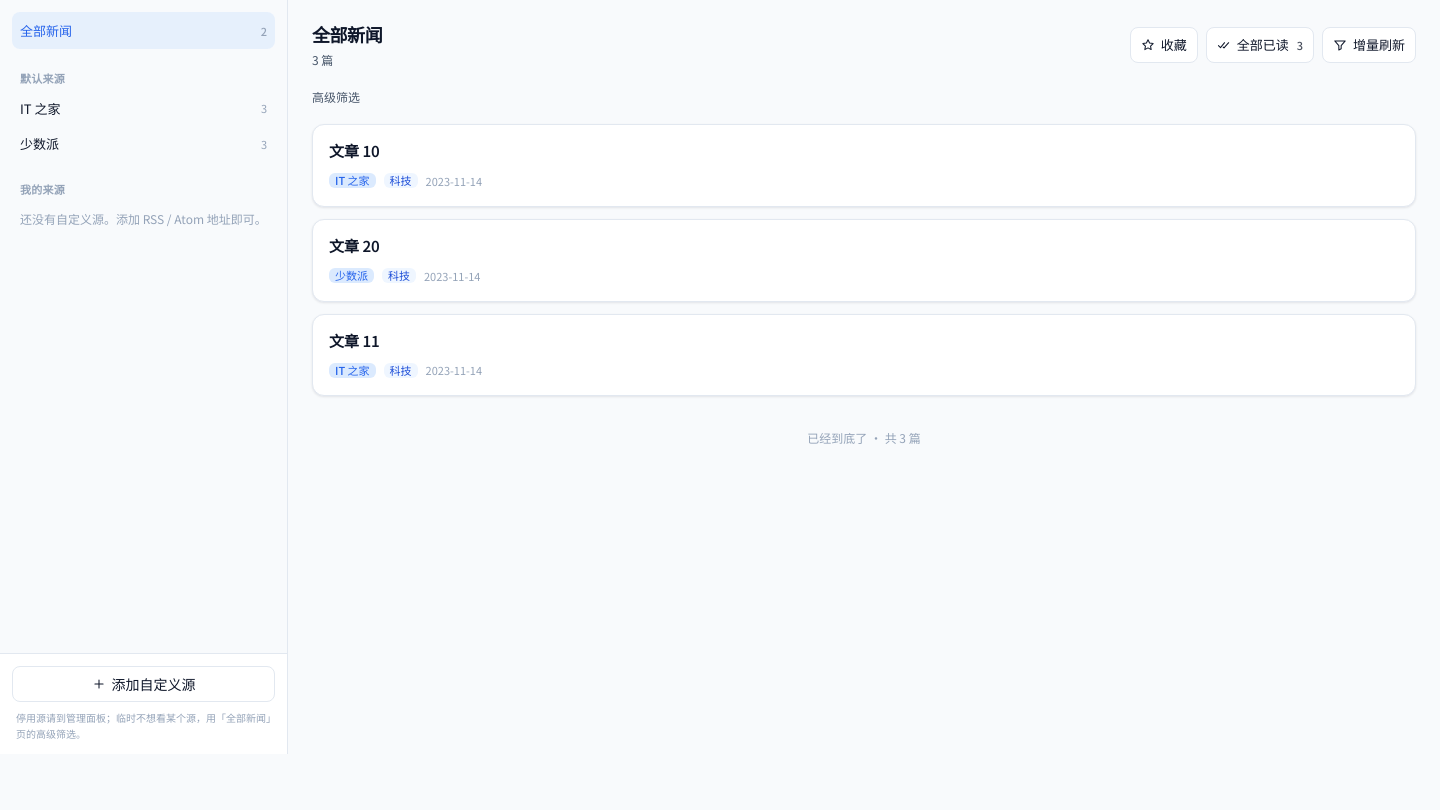
Test: 勾选隐藏源的效果 › 勾选一个源 → 该源文章从列表消失，并出现「已隐藏 1 个源」提示
expect the text "3 篇" is shown: met, box [312, 51, 333, 68]
Click the button "高级筛选" at (336, 97), box [312, 87, 360, 107]
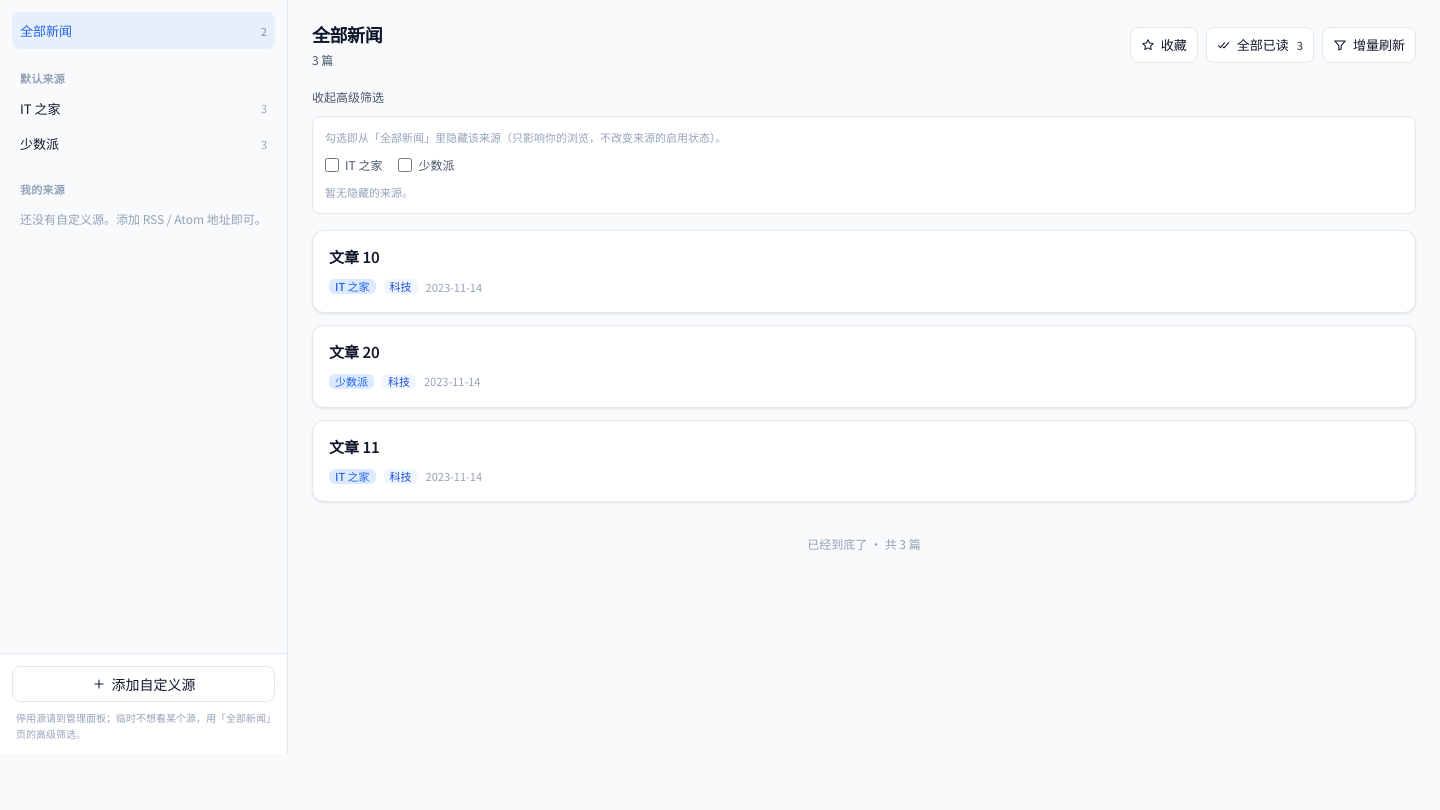
expect the element with test id "hidden-sources-panel" is shown: met, box [312, 116, 1416, 214]
Click the checkbox labelled "IT 之家" at (332, 165), box [325, 158, 339, 172]
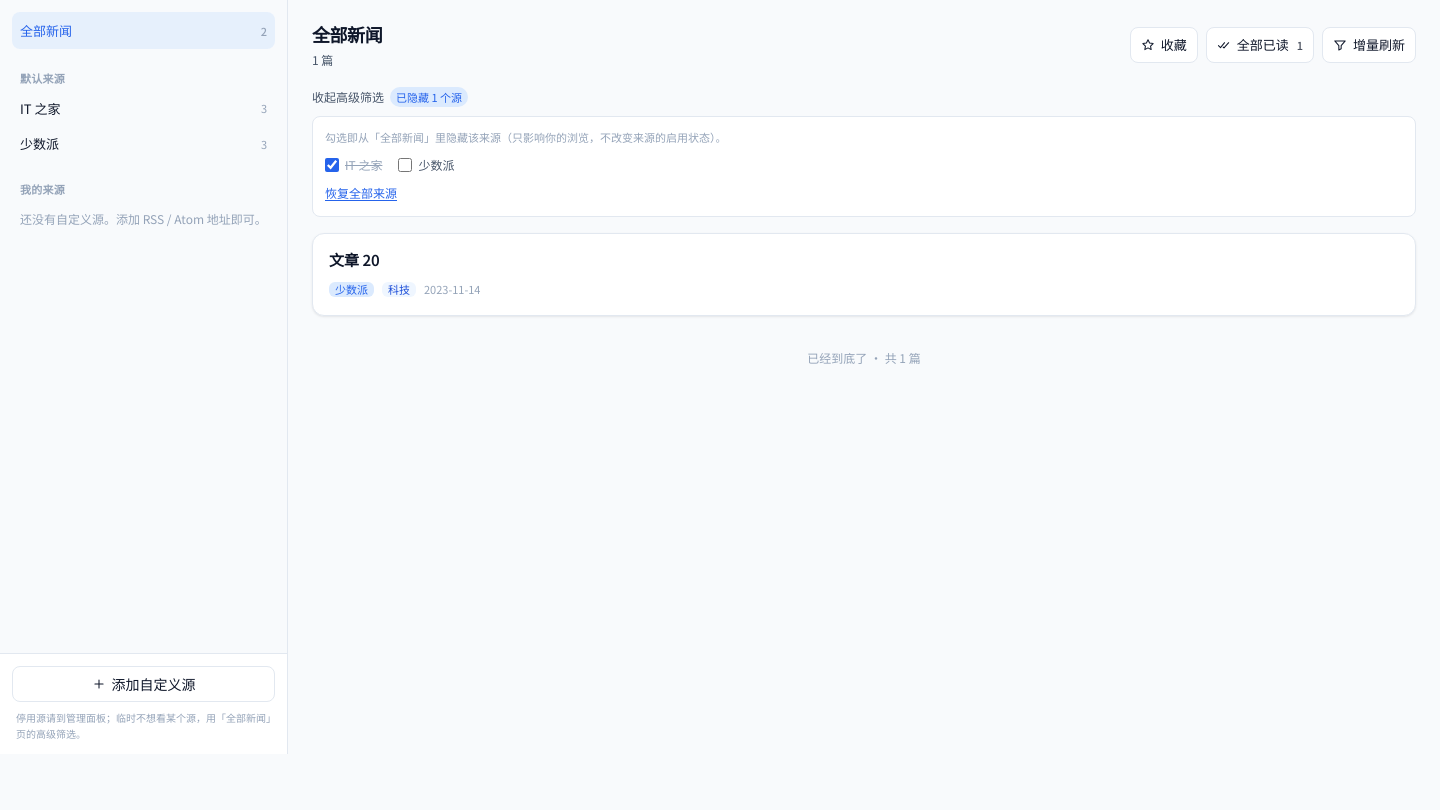
expect the text "1 篇" is shown: met, box [312, 51, 333, 68]
expect the text "已隐藏 1 个源" is shown: met, box [390, 87, 468, 107]
